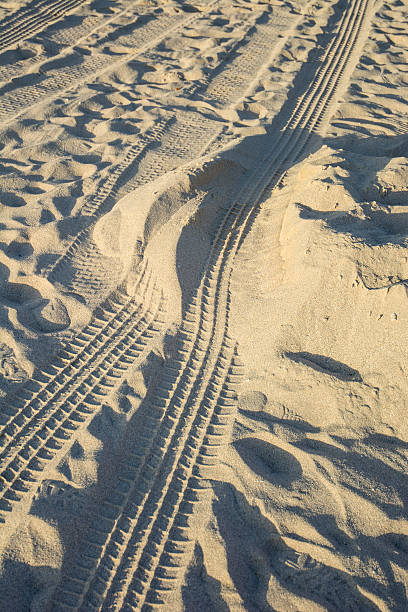vehicle_track: (53, 0, 371, 611), (0, 269, 163, 520), (0, 11, 201, 122), (80, 110, 221, 216), (0, 6, 129, 81), (0, 0, 87, 50)
